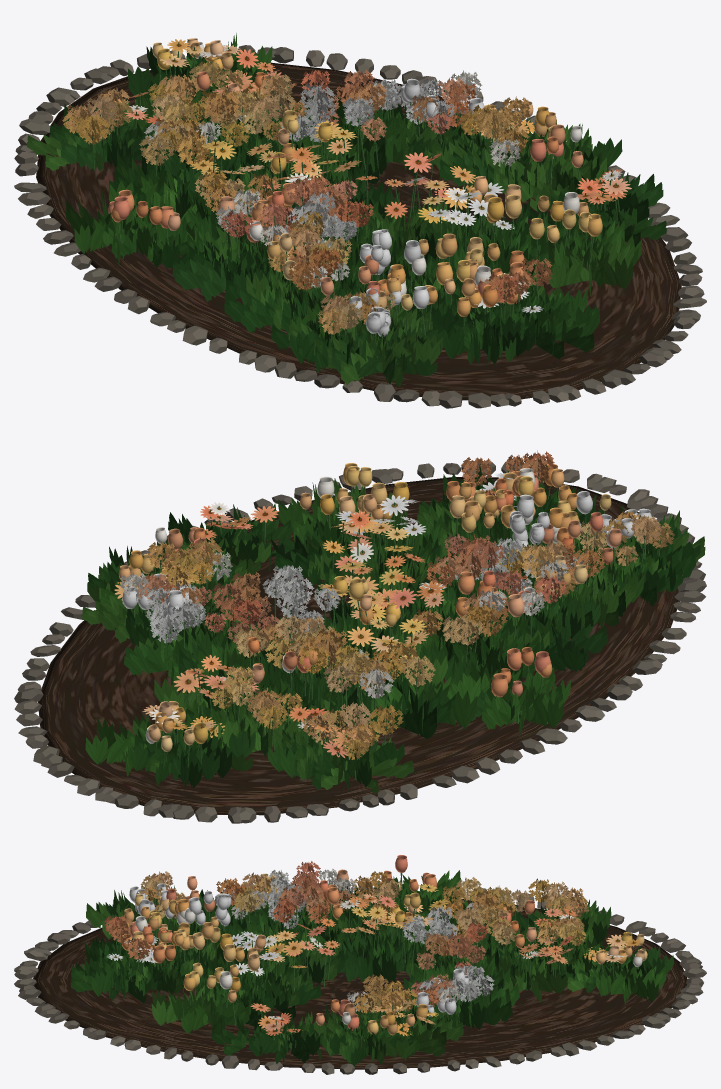
The model's file is flower-bed-11.glb.
The picture shows the model from 3 angles, top to bottom: view 1: azimuth 30°, elevation 25°; view 2: azimuth 150°, elevation 25°; view 3: azimuth 270°, elevation 25°; orthographic projection. The views are drawn at different scales.
Visible parts, largest first — view 1: flower-bed-11_FlowerFoliage, flower-bed-11_FlowerFloret, flower-bed-11_Mulch, flower-bed-11_FlowerCup, flower-bed-11_EdgeStone, flower-bed-11_FlowerDaisy, flower-bed-11_FlowerStem; view 2: flower-bed-11_FlowerFoliage, flower-bed-11_FlowerFloret, flower-bed-11_Mulch, flower-bed-11_FlowerCup, flower-bed-11_EdgeStone, flower-bed-11_FlowerDaisy, flower-bed-11_FlowerStem; view 3: flower-bed-11_FlowerFoliage, flower-bed-11_Mulch, flower-bed-11_FlowerFloret, flower-bed-11_FlowerCup, flower-bed-11_EdgeStone, flower-bed-11_FlowerDaisy, flower-bed-11_FlowerStem.
Part boxes in pixels (<box>): flower-bed-11_FlowerFoliage: <box>27,33,666,387</box>; flower-bed-11_FlowerFloret: <box>62,60,552,334</box>; flower-bed-11_Mulch: <box>36,62,681,400</box>; flower-bed-11_FlowerCup: <box>108,38,602,337</box>; flower-bed-11_EdgeStone: <box>14,45,706,408</box>; flower-bed-11_FlowerDaisy: <box>76,39,631,313</box>; flower-bed-11_FlowerStem: <box>79,42,619,347</box>; flower-bed-11_FlowerFoliage: <box>81,464,705,794</box>; flower-bed-11_FlowerFloret: <box>120,450,674,759</box>; flower-bed-11_Mulch: <box>38,477,679,815</box>; flower-bed-11_FlowerCup: <box>118,463,651,751</box>; flower-bed-11_EdgeStone: <box>14,460,706,823</box>; flower-bed-11_FlowerDaisy: <box>114,473,533,757</box>; flower-bed-11_FlowerStem: <box>124,467,660,779</box>; flower-bed-11_FlowerFoliage: <box>70,870,673,1066</box>; flower-bed-11_Mulch: <box>33,894,687,1069</box>; flower-bed-11_FlowerFloret: <box>104,861,588,1013</box>; flower-bed-11_FlowerCup: <box>112,855,647,1035</box>; flower-bed-11_EdgeStone: <box>14,883,706,1074</box>; flower-bed-11_FlowerDaisy: <box>107,883,642,1036</box>; flower-bed-11_FlowerStem: <box>115,872,643,1052</box>.
Bounding box in the file's own units: 3.37 × 0.73 × 5.17.
Materials: 7 (4 with a texture image).
